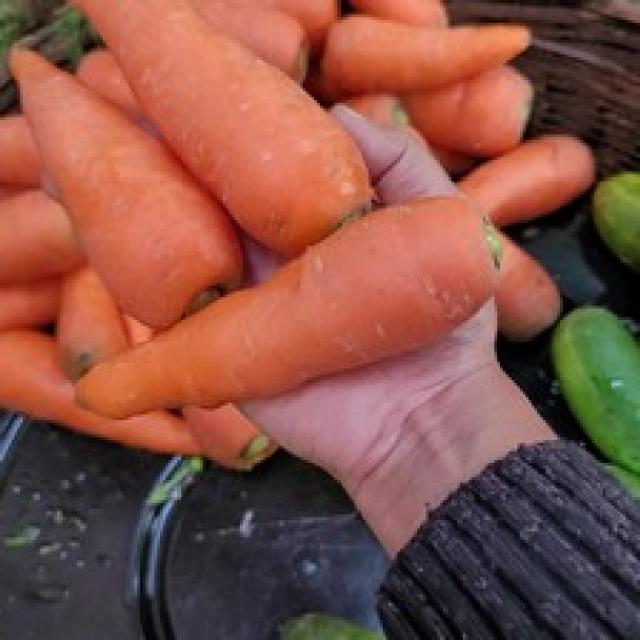Fresh_Carrot: (64, 201, 475, 435), (69, 5, 360, 225), (6, 47, 218, 294)
